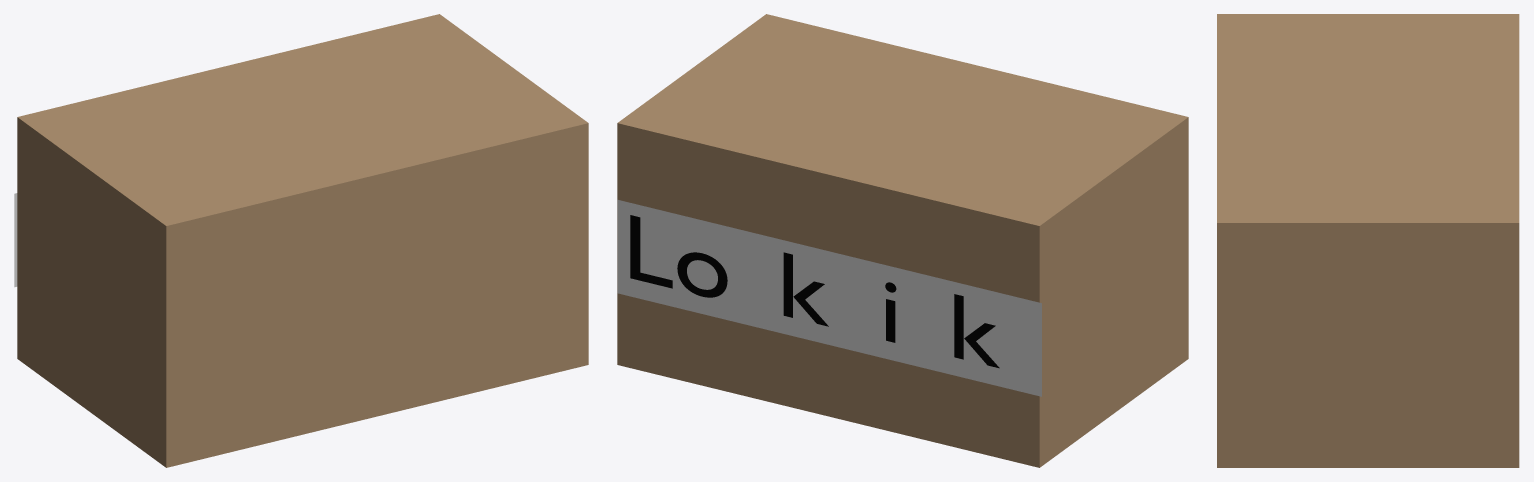
File: Lockpickbox.fbx
3 views of the same model, side by side, from view 1: azimuth 30°, elevation 25°; view 2: azimuth 150°, elevation 25°; view 3: azimuth 270°, elevation 25° (orthographic).
Visible parts, largest first — view 1: Cube; view 2: Cube, Plane, Text; view 3: Cube.
Part boxes in pixels (x1,y1,x2,y2): Cube: [17, 14, 588, 467]; Cube: [617, 14, 1188, 467]; Plane: [617, 200, 1041, 396]; Text: [630, 215, 999, 368]; Cube: [1217, 14, 1519, 467].
Bounding box in the file's own units: 168 × 91.31 × 102.
